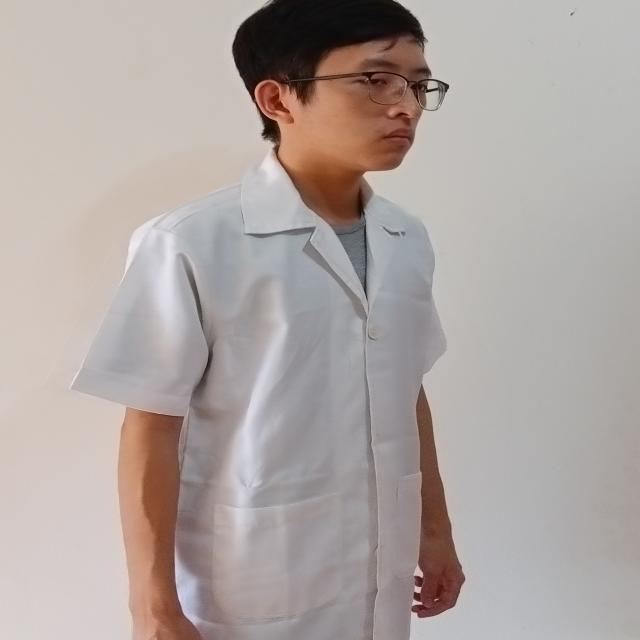person_with_labcoat: (71, 0, 464, 640)
